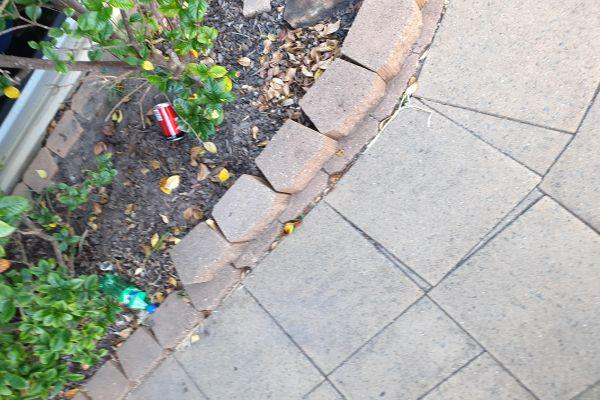Plastic Bottle: (96, 270, 158, 314), (152, 101, 186, 143)
